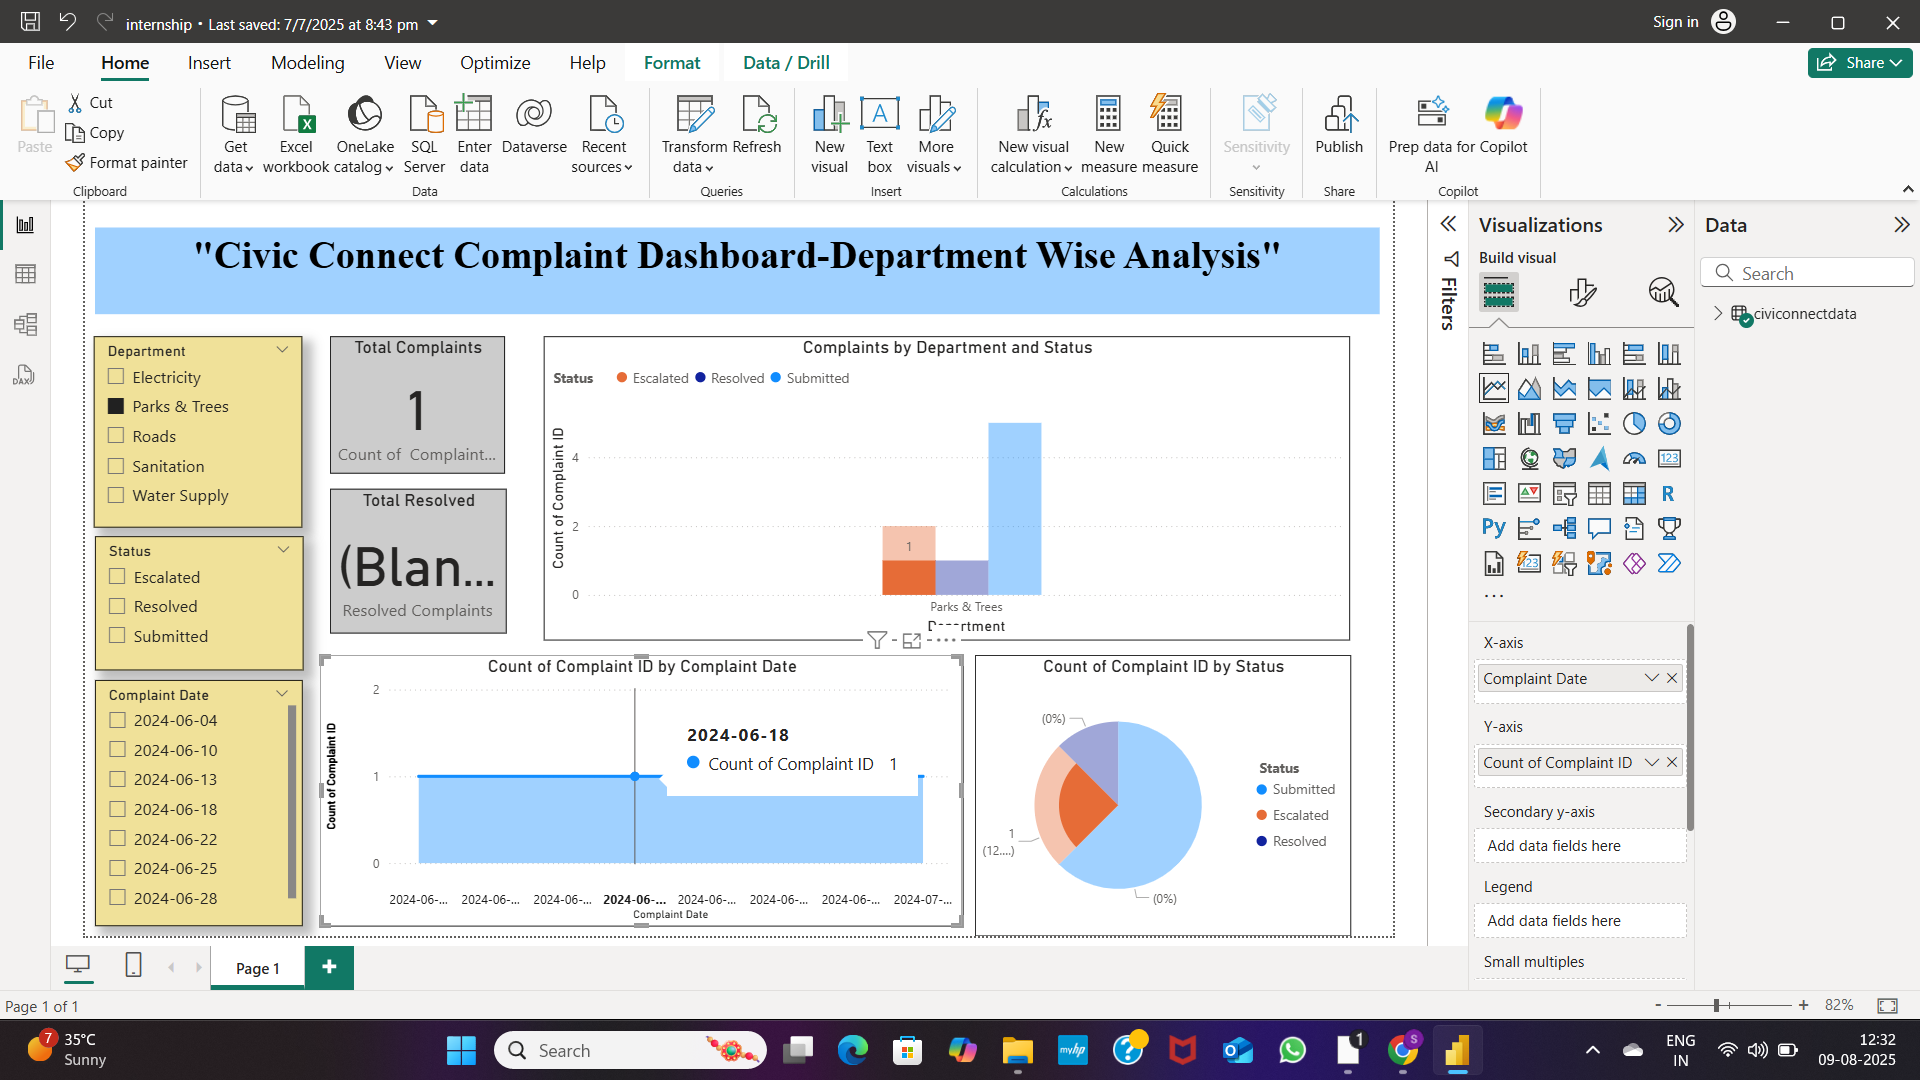

Layout of this report page (visuals, bound fields, positions):
{"tool":"powerbi","page":{"name":"Page 1","canvas":[1280,720],"ordinal":0},"visuals":[{"type":"textbox","box":[9.8,170,1270.5,150.4],"z":0},{"type":"textbox","box":[9.6,27.4,1257,85.1],"z":1000},{"type":"slicer","fields":{"Values":["civiconnectdata. Department    "]},"box":[8.6,133.3,204.2,187.1],"z":2000},{"type":"slicer","fields":{"Values":["civiconnectdata. Status    "]},"box":[9.8,328.9,204.2,130.8],"z":3000},{"type":"slicer","fields":{"Values":["civiconnectdata. Complaint Date "]},"box":[9.8,470,202.8,240.6],"z":4000},{"type":"card","title":"Total Complaints","fields":{"Values":["civiconnectdata. Complaint ID "]},"box":[239.7,133.3,171.2,134.5],"z":5000},{"type":"card","title":"Total Resolved ","fields":{"Values":["civiconnectdata.Resolved Complaints"]},"box":[239.7,282.5,172.4,141.8],"z":6000},{"type":"clusteredColumnChart","title":"Complaints by Department and Status    ","fields":{"Category":["civiconnectdata. Department    "],"Y":["civiconnectdata. Complaint ID "],"Series":["civiconnectdata. Status    "]},"box":[449,132.9,789,298],"z":7000},{"type":"pieChart","fields":{"Category":["civiconnectdata. Status    "],"Y":["civiconnectdata. Complaint ID "]},"box":[870.1,444.9,367.9,275.6],"z":8000},{"type":"lineChart","fields":{"Category":["civiconnectdata. Complaint Date "],"Y":["civiconnectdata. Complaint ID "]},"box":[229.4,444.9,629.5,265.8],"z":9000}]}

Visuals, with their boxes on the page's 1280x720 design canvas (x1, y1, x2, y2). These are canvas units, not pixel positions in the 1920x1080 screenshot, which may show the page scaled, cropped or inside an application window:
textbox: <bbox>10, 170, 1280, 320</bbox>
textbox: <bbox>10, 27, 1267, 112</bbox>
slicer - civiconnectdata. Department    : <bbox>9, 133, 213, 320</bbox>
slicer - civiconnectdata. Status    : <bbox>10, 329, 214, 460</bbox>
slicer - civiconnectdata. Complaint Date : <bbox>10, 470, 213, 711</bbox>
"Total Complaints" card: <bbox>240, 133, 411, 268</bbox>
"Total Resolved " card: <bbox>240, 282, 412, 424</bbox>
"Complaints by Department and Status    " clusteredColumnChart: <bbox>449, 133, 1238, 431</bbox>
pieChart - civiconnectdata. Status     x civiconnectdata. Complaint ID : <bbox>870, 445, 1238, 720</bbox>
lineChart - civiconnectdata. Complaint Date  x civiconnectdata. Complaint ID : <bbox>229, 445, 859, 711</bbox>
